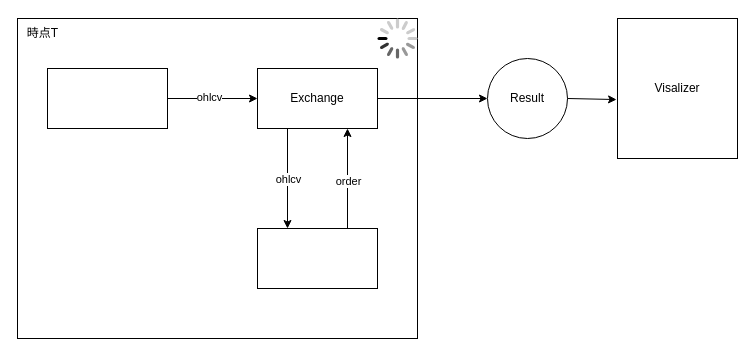
This 755x356 diagram has some shape labels left out. The box of each missing label's shape, as (x1, y1, x2, y2) in pixels:
Market: (46, 68, 168, 128)
Trader: (256, 228, 378, 288)
